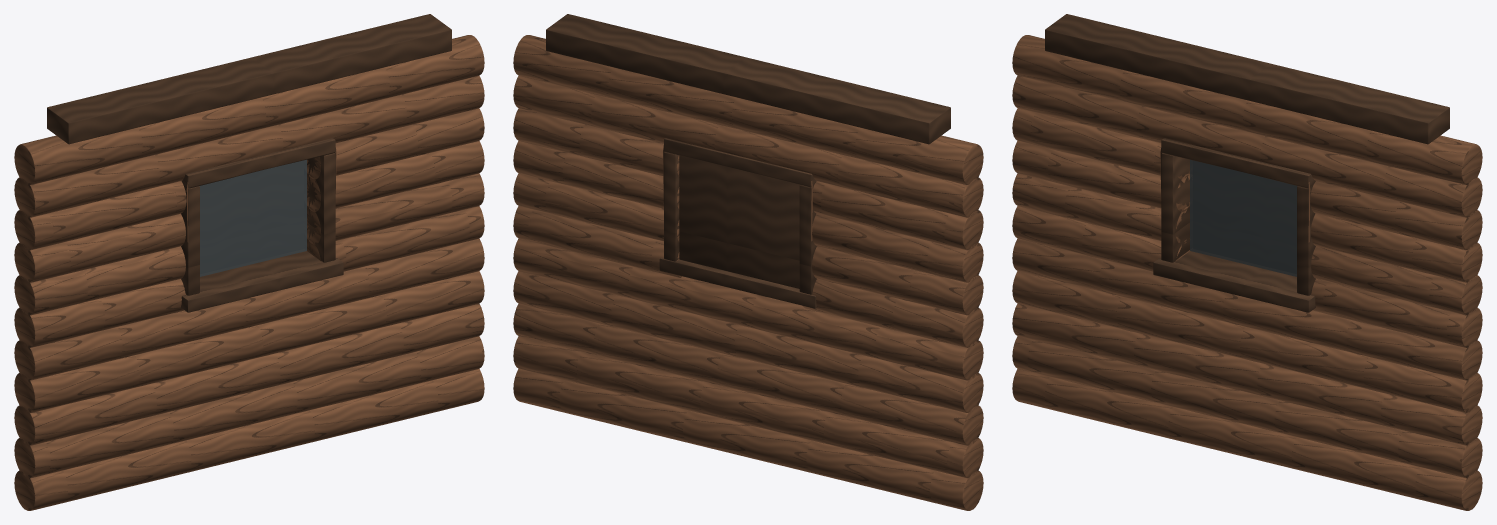
File: wall_log_stack.glb
3 renders of one model, left to right at view 1: azimuth 30°, elevation 25°; view 2: azimuth 150°, elevation 25°; view 3: azimuth 330°, elevation 25°, orthographic.
Parts seen in each view (by area): view 1: wall_log_stack_0; view 2: wall_log_stack_0; view 3: wall_log_stack_0.
Boxes of the visible parts, x1,y1,x2,y2 form: wall_log_stack_0: (14, 14, 484, 510); wall_log_stack_0: (513, 14, 983, 510); wall_log_stack_0: (1012, 14, 1482, 510).
Size of the model in its own units: 3.28 by 2.69 by 0.35.
3 materials, 2 textured.
